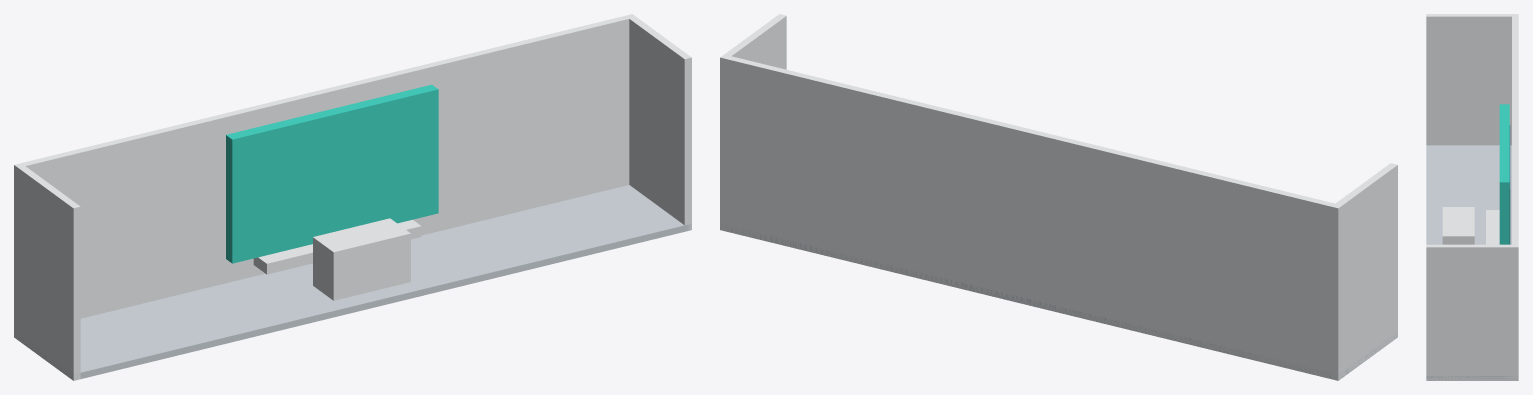
3 renders of one model, left to right at view 1: azimuth 30°, elevation 25°; view 2: azimuth 150°, elevation 25°; view 3: azimuth 270°, elevation 25°, orthographic. The views are drawn at different scales.
Visible parts, largest first — view 1: Exhibition Booth Concept; view 2: Exhibition Booth Concept; view 3: Exhibition Booth Concept.
Boxes of the visible parts, x1,y1,x2,y2 form: Exhibition Booth Concept: [14, 14, 691, 380]; Exhibition Booth Concept: [720, 14, 1397, 380]; Exhibition Booth Concept: [1426, 14, 1518, 380].
Bounding box in the file's own units: 12 × 3.2 × 2.
